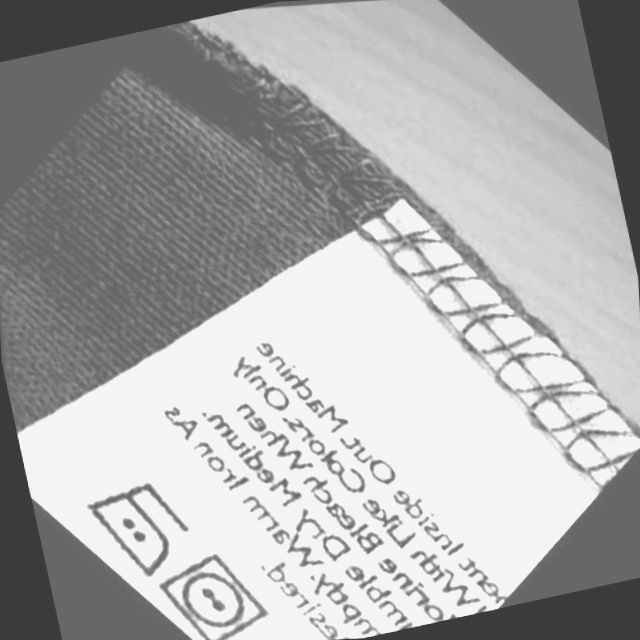iron_medium: (64, 462, 206, 595)
tumble_dry_medium: (139, 534, 283, 640)
